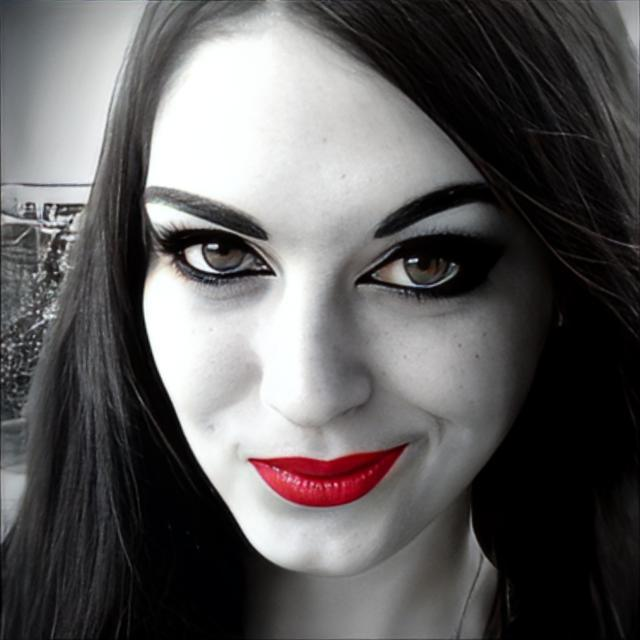content: (142, 0, 535, 580)
